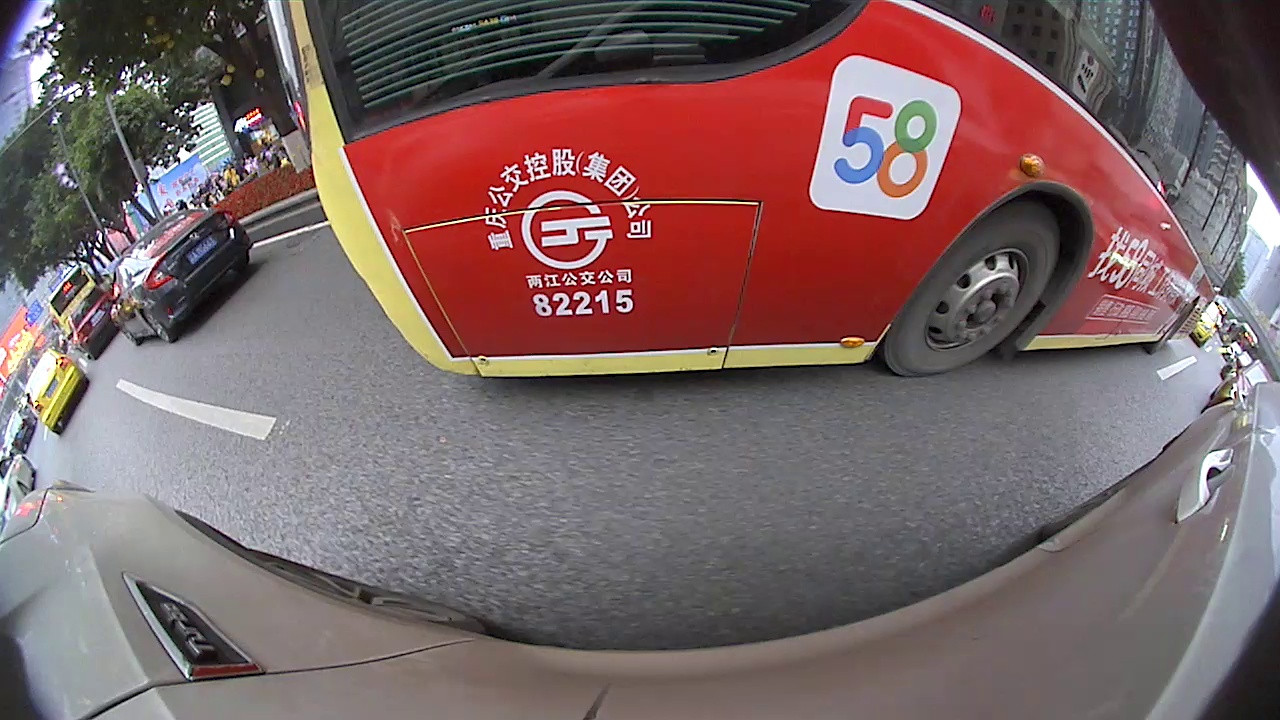car: (170, 41, 767, 313), (1140, 326, 1251, 457), (837, 95, 977, 183), (937, 160, 1058, 242)
front: (572, 190, 707, 308)
rear: (206, 243, 274, 313)
rider: (701, 59, 788, 143)
